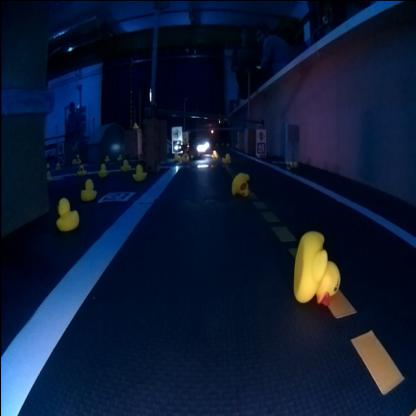Duckie: (293, 229, 341, 306), (56, 198, 77, 226), (232, 170, 250, 194), (80, 176, 96, 200), (136, 164, 146, 180), (102, 163, 107, 177), (224, 152, 230, 160), (212, 148, 218, 156), (183, 152, 188, 160), (132, 122, 138, 127)
QR code: (98, 188, 135, 200), (258, 142, 266, 152)
Traffic light: (209, 127, 214, 134)
